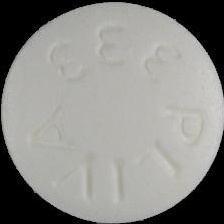64205-333: (0, 0, 224, 224)
